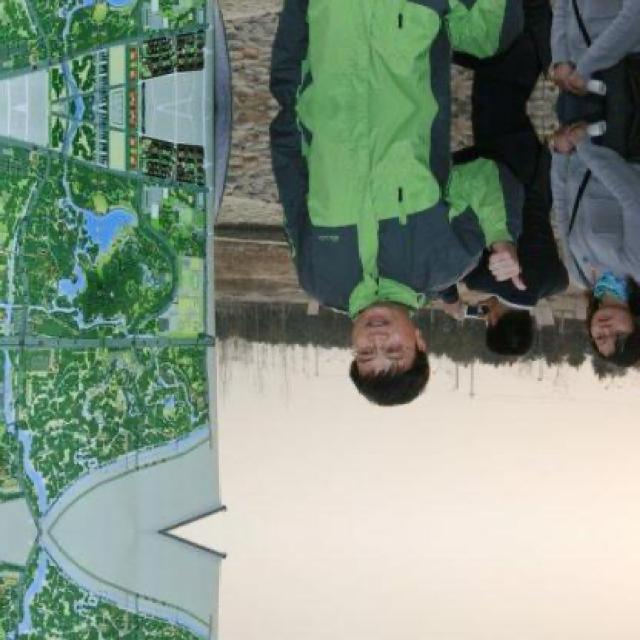sin casco: (320, 272, 441, 412), (574, 277, 638, 375)
